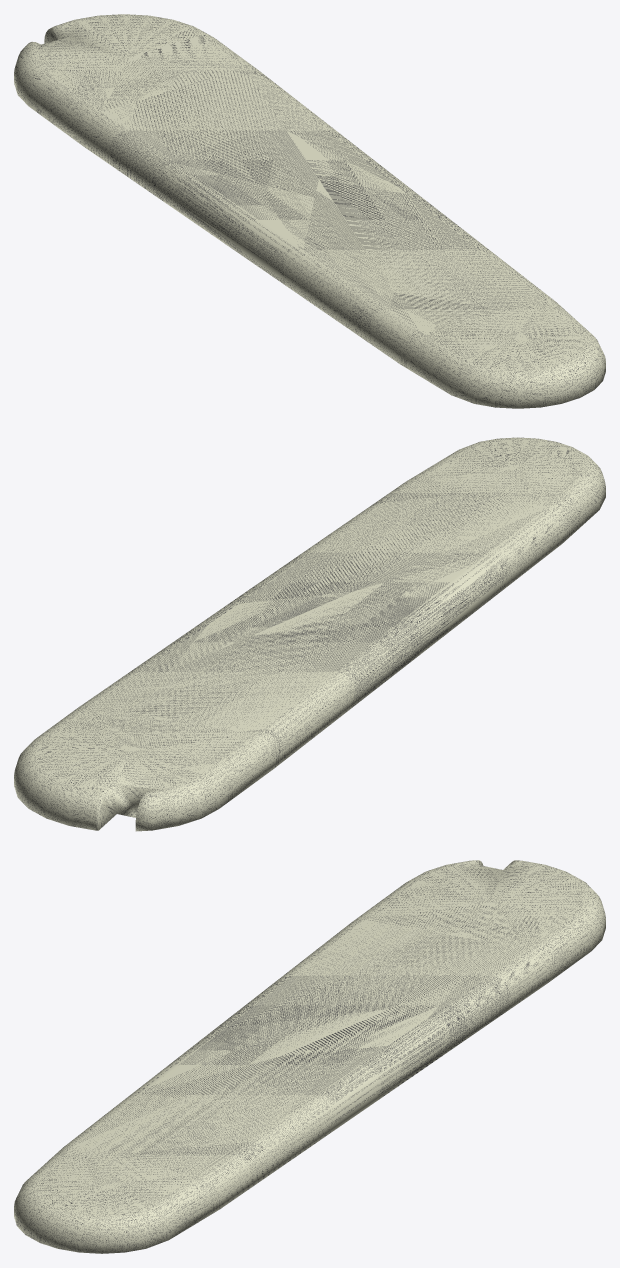
Rendered from original-6.obj.
3 renders of one model, top to bottom at view 1: azimuth 30°, elevation 25°; view 2: azimuth 150°, elevation 25°; view 3: azimuth 330°, elevation 25°, orthographic.
Visible parts, largest first — view 1: COVERPLATE1/COVERPLATE/mesh6/mesh6-geometry#mesh6-geometry; view 2: COVERPLATE1/COVERPLATE/mesh6/mesh6-geometry#mesh6-geometry; view 3: COVERPLATE1/COVERPLATE/mesh6/mesh6-geometry#mesh6-geometry.
Boxes of the visible parts, x1,y1,x2,y2 form: COVERPLATE1/COVERPLATE/mesh6/mesh6-geometry#mesh6-geometry: (14,14,605,408); COVERPLATE1/COVERPLATE/mesh6/mesh6-geometry#mesh6-geometry: (14,437,605,831); COVERPLATE1/COVERPLATE/mesh6/mesh6-geometry#mesh6-geometry: (14,860,605,1253).
Bounding box in the file's own units: 0.2363 × 0.0354 × 1.06.
